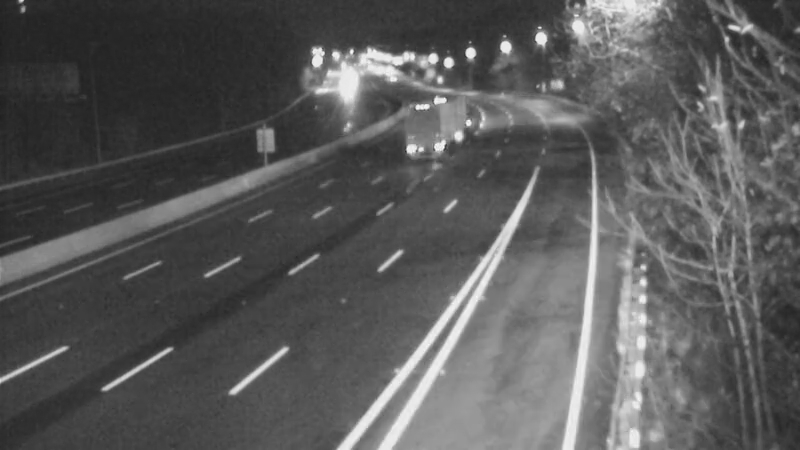vehicle: (413, 81, 463, 131)
